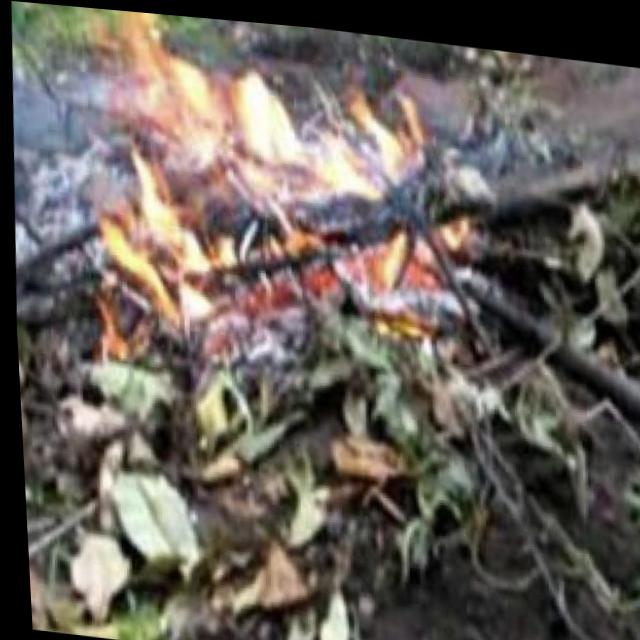Fire: (82, 6, 441, 338)
